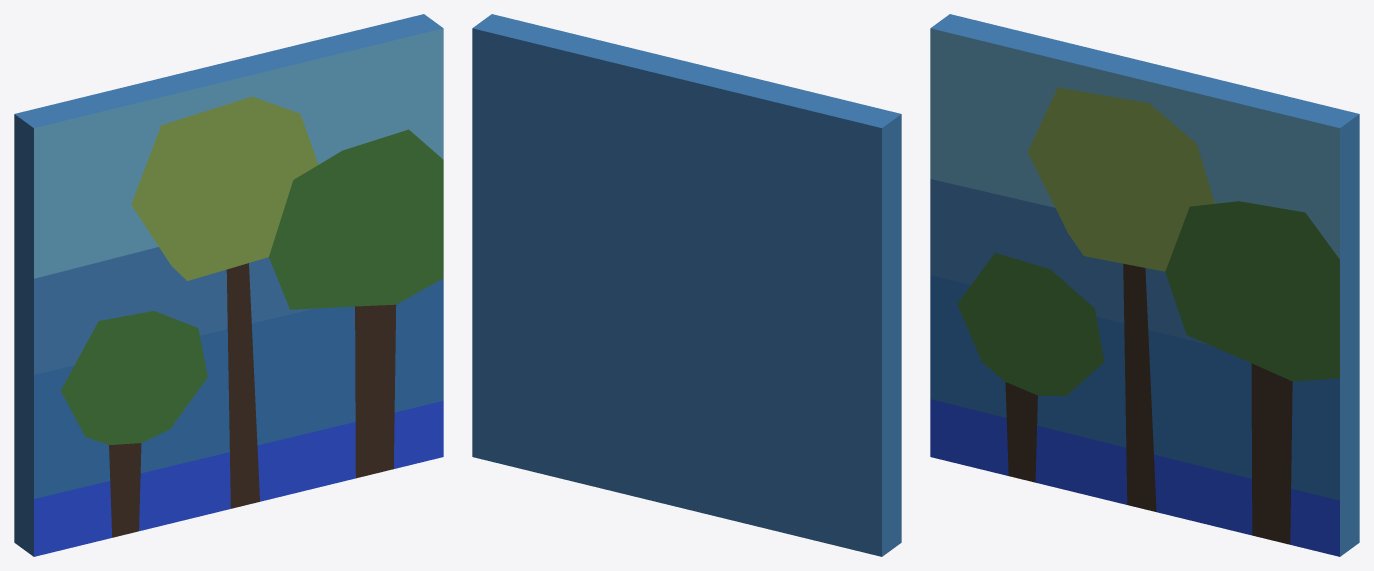
The model's file is poster_3.fbx.
3 renders of one model, left to right at view 1: azimuth 30°, elevation 25°; view 2: azimuth 150°, elevation 25°; view 3: azimuth 330°, elevation 25°, orthographic.
Parts seen in each view (by area): view 1: poster 3; view 2: poster 3; view 3: poster 3.
Boxes of the visible parts, bbox=[...] form: poster 3: bbox=[14, 14, 443, 556]; poster 3: bbox=[472, 14, 901, 556]; poster 3: bbox=[930, 14, 1359, 556].
Bounding box in the file's own units: 3136 × 3136 × 259.
